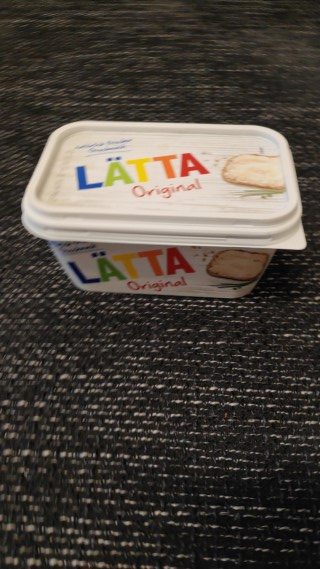laetta: (20, 117, 308, 300)
